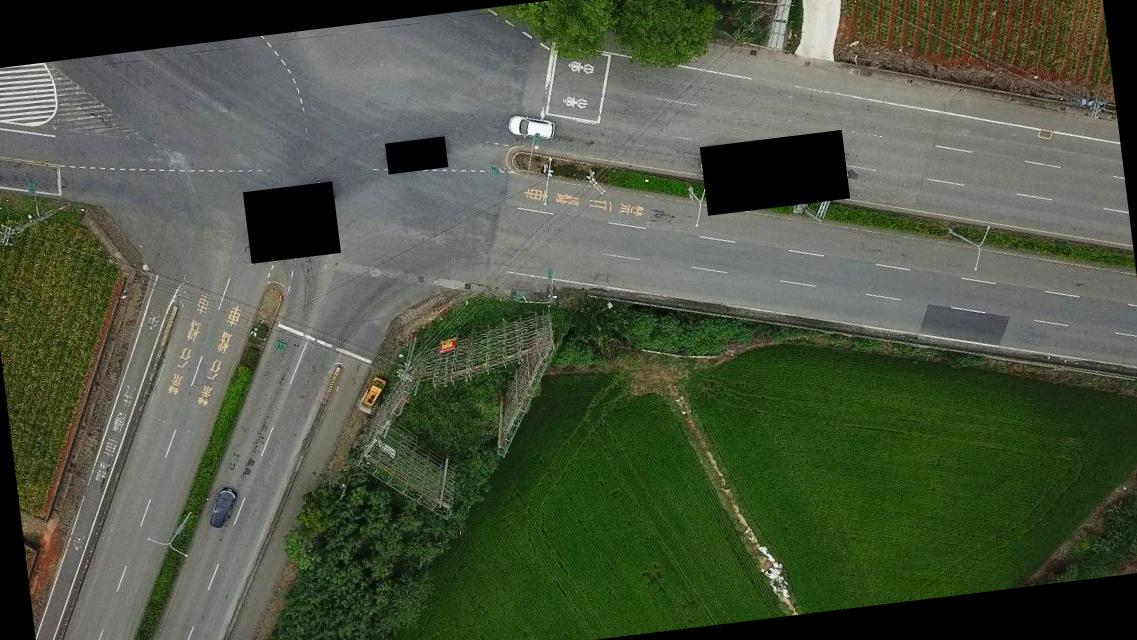vehicle: (503, 112, 555, 144), (204, 485, 240, 529), (358, 374, 391, 411)
